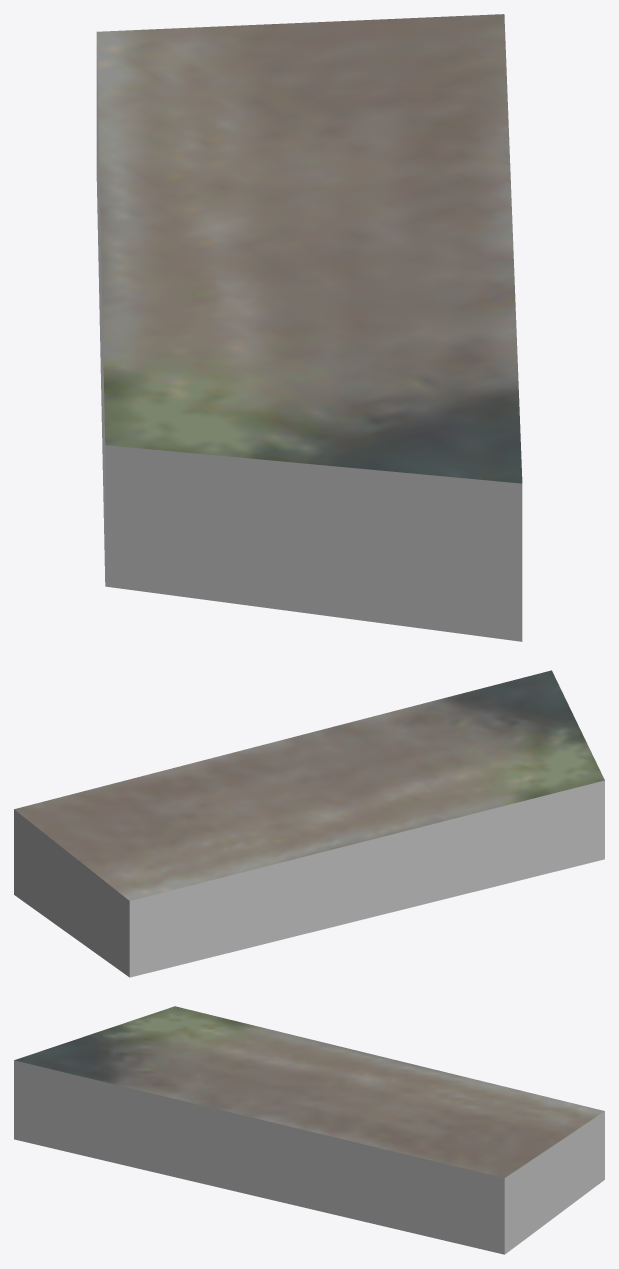
Rendered from DEBW_0010007Txbf.gltf.
3 views of the same model, one above another, from view 1: azimuth 30°, elevation 25°; view 2: azimuth 150°, elevation 25°; view 3: azimuth 270°, elevation 25° (orthographic). The views are drawn at different scales.
Parts seen in each view (by area): view 1: Z_UP; view 2: Z_UP; view 3: Z_UP.
Part boxes in pixels (x1,y1,x2,y2): Z_UP: (96, 14, 522, 641); Z_UP: (14, 670, 604, 977); Z_UP: (14, 1006, 604, 1254).
Size of the model in its own units: 12.89 by 2.67 by 18.1.
Materials: 2 (1 with a texture image).
